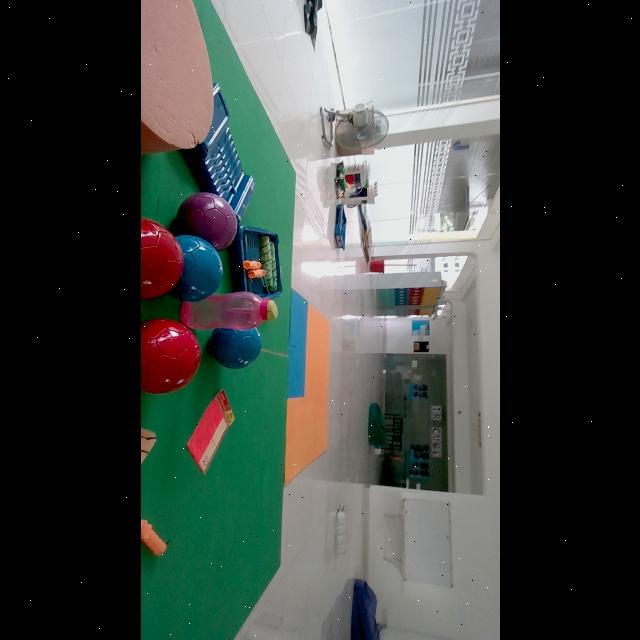B: (169, 234, 223, 302), (208, 328, 261, 369)
P: (175, 192, 237, 251)
R: (140, 319, 200, 394), (140, 217, 183, 299)
